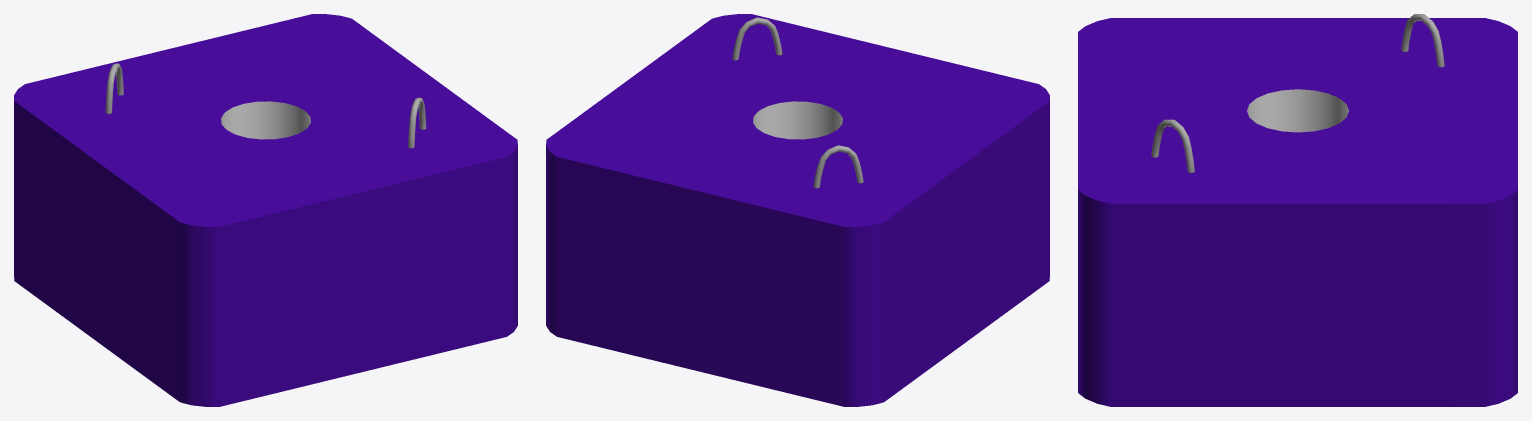
Rendered from concrete_block.fbx.
The picture shows the model from 3 angles, left to right: view 1: azimuth 30°, elevation 25°; view 2: azimuth 150°, elevation 25°; view 3: azimuth 270°, elevation 25°; orthographic projection. The views are drawn at different scales.
Parts seen in each view (by area): view 1: SteelRings1; view 2: SteelRings1; view 3: SteelRings1.
Boxes of the visible parts, left/top/right/bottom form: SteelRings1: left=14, top=14, right=517, bottom=406; SteelRings1: left=546, top=14, right=1049, bottom=406; SteelRings1: left=1078, top=14, right=1517, bottom=406.
Size of the model in its own units: 72 by 44.62 by 72.
